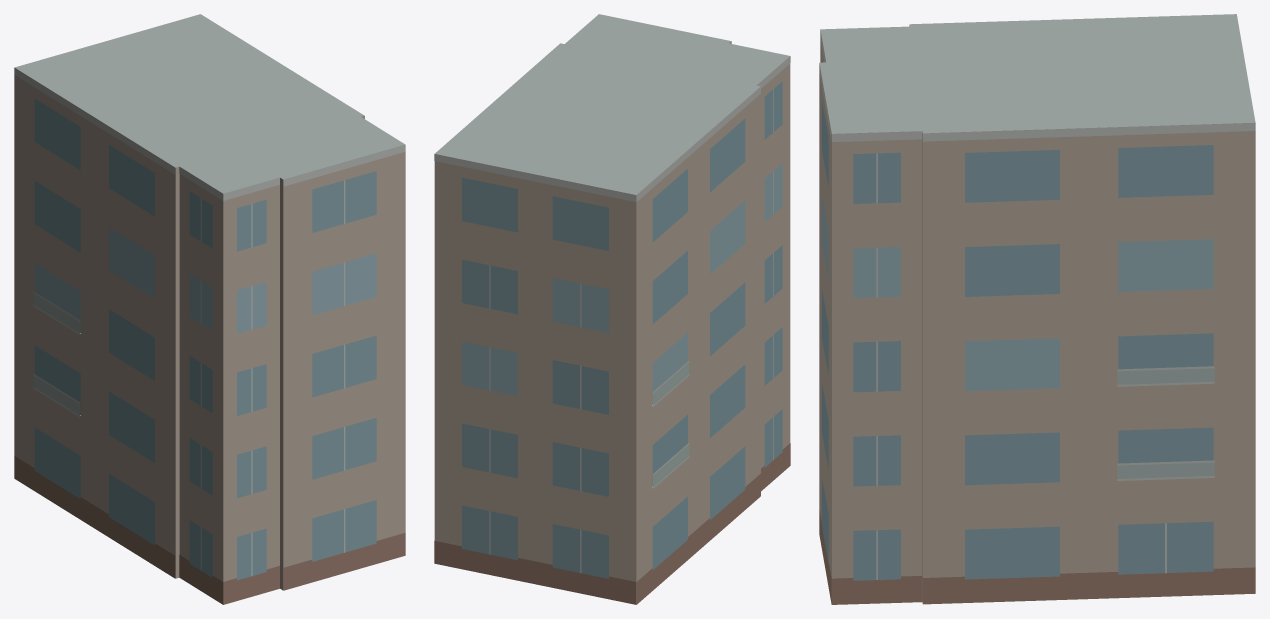
File: survey-upis-32757160.glb
The picture shows the model from 3 angles, left to right: view 1: azimuth 30°, elevation 25°; view 2: azimuth 150°, elevation 25°; view 3: azimuth 270°, elevation 25°; orthographic projection. The views are drawn at different scales.
Visible parts, largest first — view 1: survey-upis-32757160.tmp; view 2: survey-upis-32757160.tmp; view 3: survey-upis-32757160.tmp.
Boxes of the visible parts, <box> form: survey-upis-32757160.tmp: <box>14,14,405,604</box>; survey-upis-32757160.tmp: <box>434,14,790,604</box>; survey-upis-32757160.tmp: <box>819,14,1255,604</box>.
Bounding box in the file's own units: 7.65 × 14 × 11.76.
